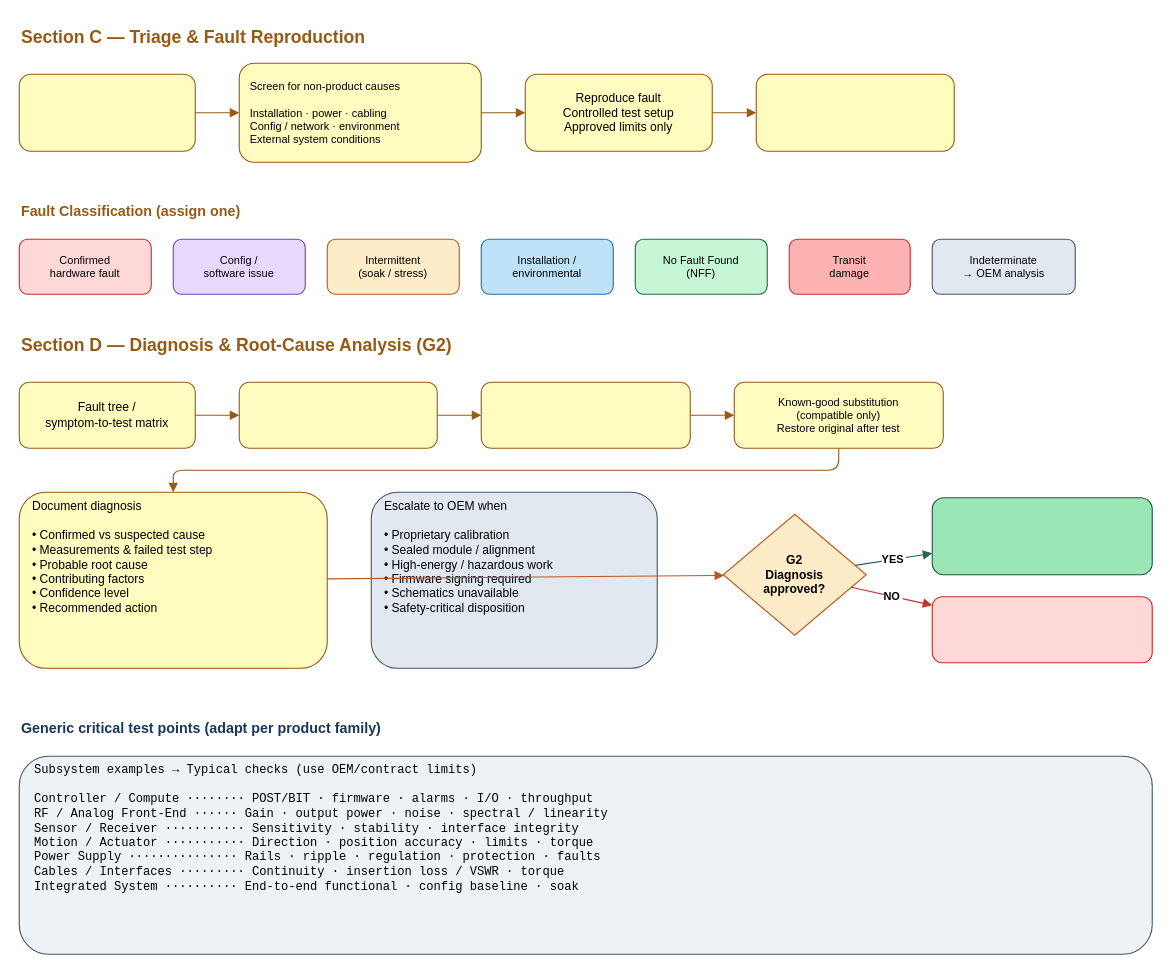
The diagram is 1172 pixels wide and 974 high, and some of its shapes have lost their labels. Each missing label, with the centre of its shape:
Continue diagnosis or escalate OEM / customer: pixel 1041 629
Isolate to smallest replaceable assembly (avoid unnecessary teardown): pixel 585 414
Non-invasive first Logs · BIT · LEDs · alarms FW / config review: pixel 337 414
Proceed to Repair vs Replace Decision (G3) Status: DIAG → AUTH: pixel 1041 536
Record evidence Instrument IDs · cal status Setup · ambient · readings: pixel 854 112
Review history Prior repairs · config Technical manuals: pixel 106 112
